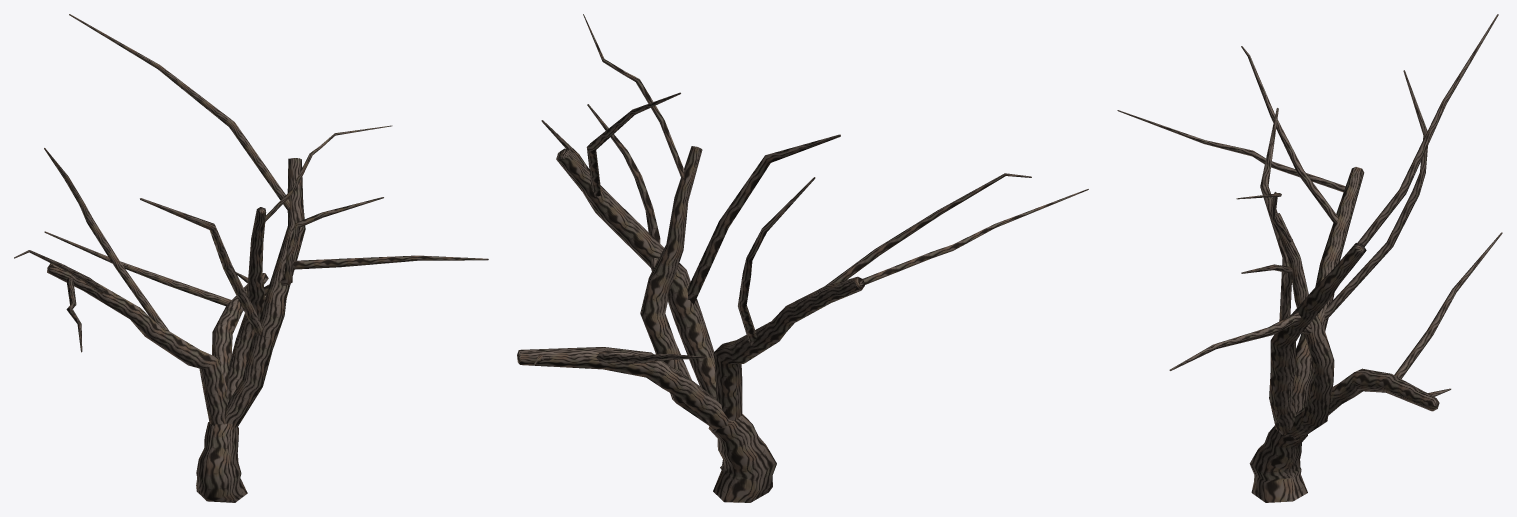
The model's file is dead_standing-b.lod1.glb.
The picture shows the model from 3 angles, left to right: view 1: azimuth 30°, elevation 25°; view 2: azimuth 150°, elevation 25°; view 3: azimuth 270°, elevation 25°; orthographic projection. The views are drawn at different scales.
Parts seen in each view (by area): view 1: bark; view 2: bark; view 3: bark.
Part boxes in pixels (bbox=[...]): bark: bbox=[14, 14, 488, 502]; bark: bbox=[517, 14, 1088, 502]; bark: bbox=[1117, 14, 1502, 502].
Bounding box in the file's own units: 8.84 × 8 × 6.18.
1 material, 1 textured.
